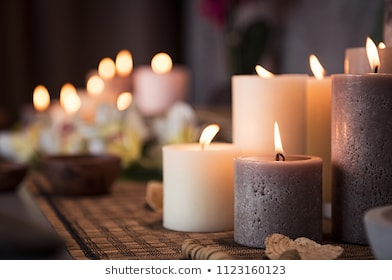Fire: (57, 82, 83, 111), (363, 36, 382, 74), (270, 121, 288, 161), (306, 53, 329, 82), (197, 121, 221, 148), (149, 51, 174, 76), (30, 85, 52, 111), (114, 50, 134, 77), (85, 74, 106, 96), (254, 63, 278, 81), (116, 91, 134, 113)
